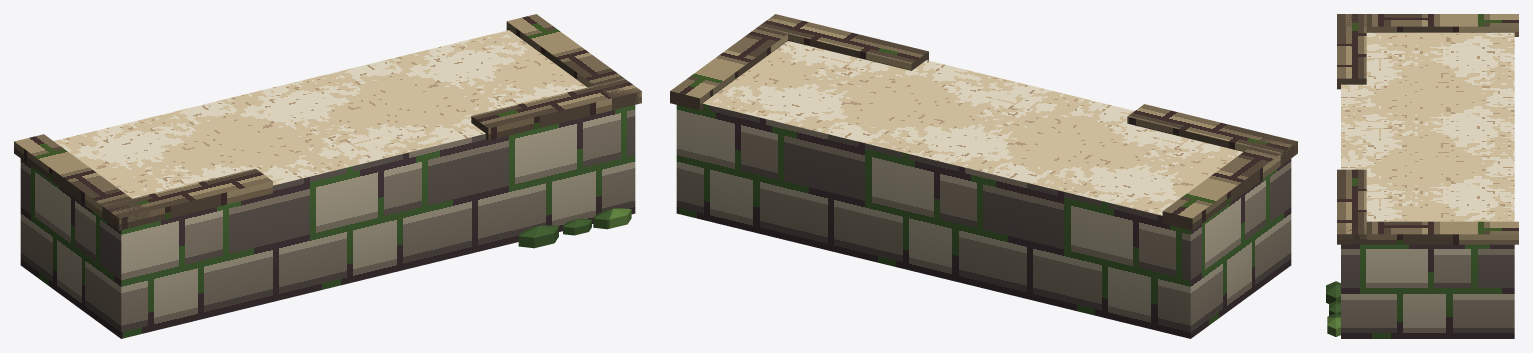
The model's file is scene_stack_ledge.glb.
3 renders of one model, left to right at view 1: azimuth 30°, elevation 25°; view 2: azimuth 150°, elevation 25°; view 3: azimuth 270°, elevation 25°, orthographic. The views are drawn at different scales.
Parts seen in each view (by area): view 1: scene_stack_ledge; view 2: scene_stack_ledge; view 3: scene_stack_ledge.
Part boxes in pixels (x1=…): scene_stack_ledge: x1=14, y1=14, x2=641, y2=338; scene_stack_ledge: x1=670, y1=14, x2=1297, y2=338; scene_stack_ledge: x1=1326, y1=14, x2=1518, y2=338.
Bounding box in the file's own units: 6.3 × 1.5 × 2.33.
Materials: 3 (2 with a texture image).
